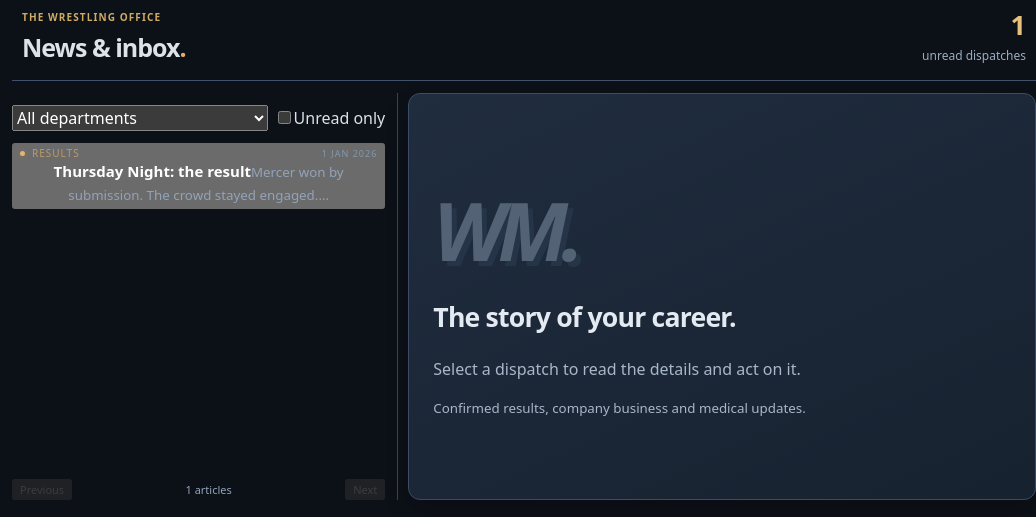
Test: does not claim a story is read when saving the acknowledgement fails
What coordinates should you click on to do the following:
click the button "Thursday Night: the result"
I would click on:
 (199, 176)
Its box is [12,143,385,209].
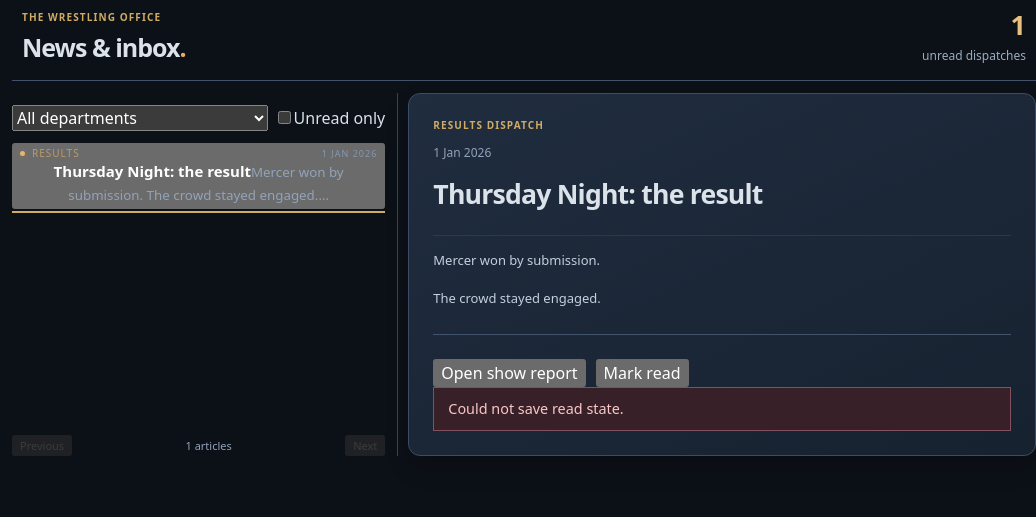
Expected: the message reads "Could not save read state.", [448,399,624,418]
Expected: the button "Mark read" is enabled, [596,359,688,387]
